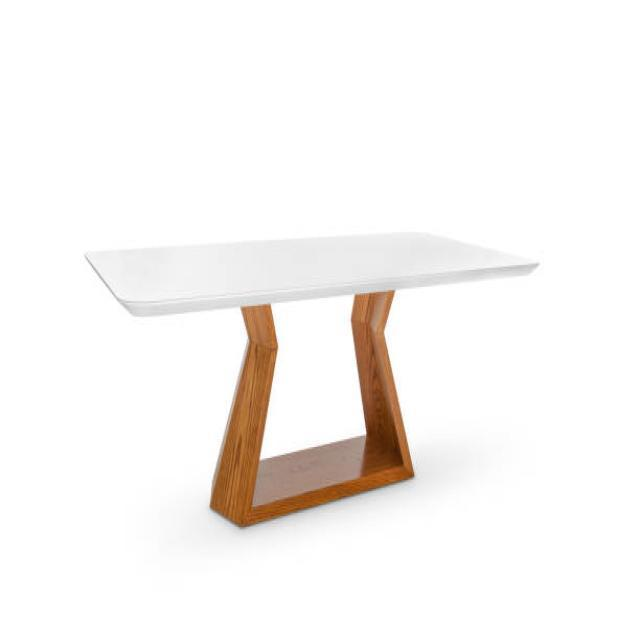table: (83, 228, 540, 528)
